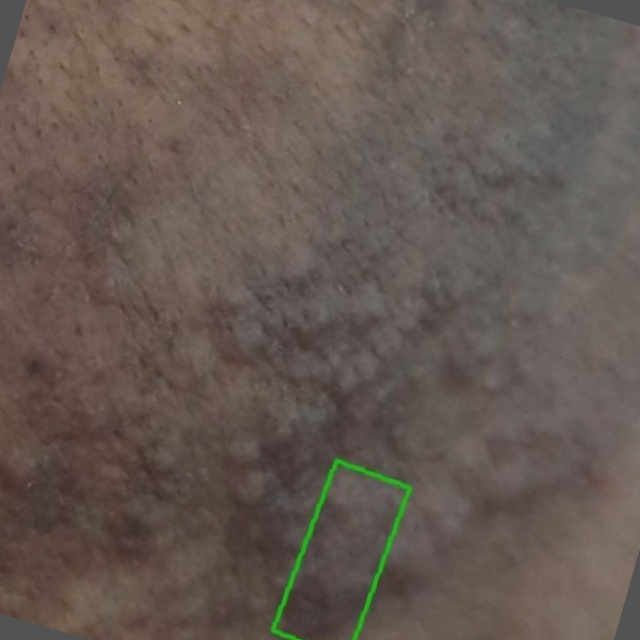Tinea Corporis: (272, 460, 409, 639)
